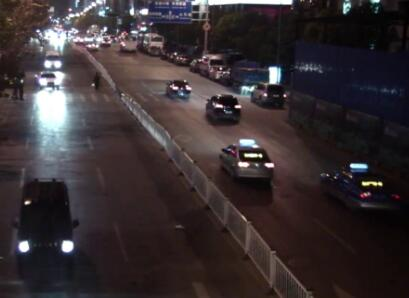bus: (136, 31, 163, 54), (118, 31, 140, 52)
car: (11, 175, 80, 271), (317, 163, 405, 214), (217, 139, 275, 185), (228, 59, 267, 92), (204, 93, 242, 123), (249, 80, 287, 108), (197, 53, 225, 76), (164, 78, 192, 99), (0, 67, 24, 87), (41, 49, 63, 70), (207, 62, 230, 82), (34, 70, 58, 89), (84, 40, 100, 51), (188, 56, 200, 70), (175, 54, 189, 66), (100, 34, 111, 47), (72, 34, 85, 44), (164, 51, 176, 61)
